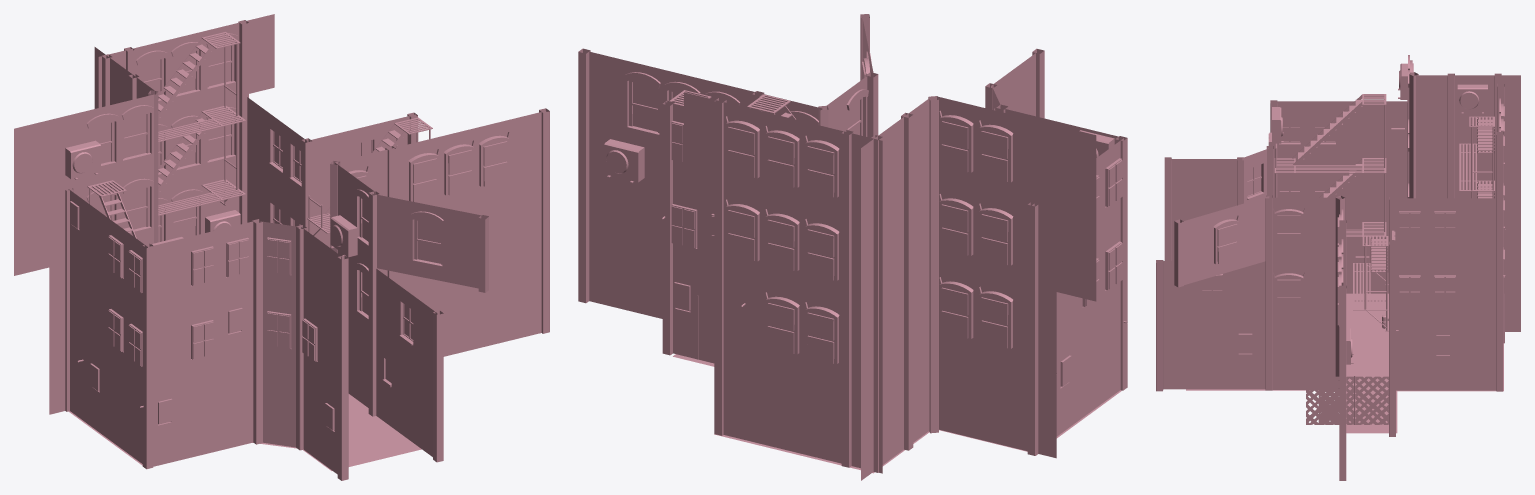
File: AlleyStructure.fbx
3 renders of one model, left to right at view 1: azimuth 30°, elevation 25°; view 2: azimuth 150°, elevation 25°; view 3: azimuth 270°, elevation 25°, orthographic. The views are drawn at different scales.
Visible parts, largest first — view 1: AlleyStructure; view 2: AlleyStructure; view 3: AlleyStructure.
Part boxes in pixels (x1,y1,x2,y2): AlleyStructure: (14, 14, 549, 480); AlleyStructure: (578, 14, 1127, 480); AlleyStructure: (1156, 55, 1520, 480).
Bounding box in the file's own units: 2814 × 1600 × 2062.
